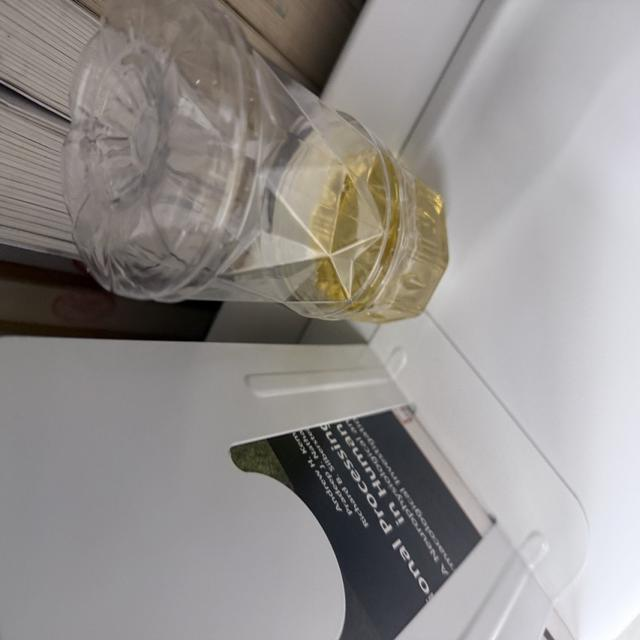low: (62, 0, 446, 321)
